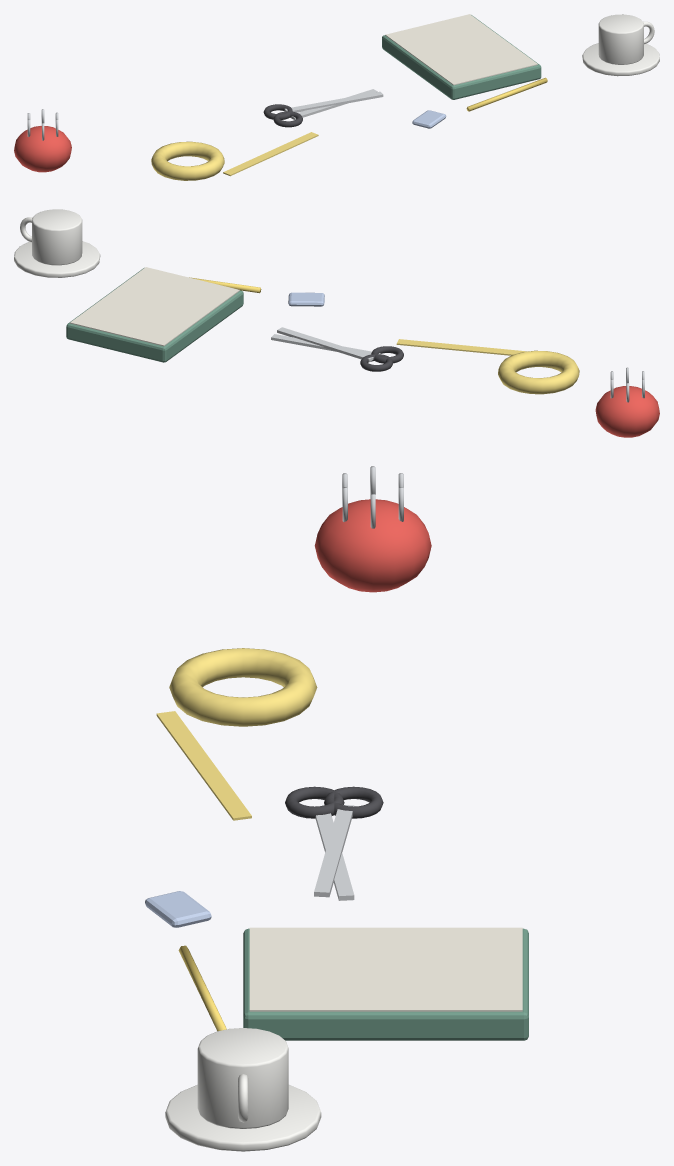
File: v2_counter_clutter.fbx
3 views of the same model, one above another, from view 1: azimuth 30°, elevation 25°; view 2: azimuth 150°, elevation 25°; view 3: azimuth 270°, elevation 25° (orthographic). The views are drawn at different scales.
Parts seen in each view (by area): view 1: ReceiptPage, ReceiptBook, Cup, TapeCoil, PinCushion, Saucer, TapeEnd.001, ScissorBladeB.001, Pencil, Chalk, ScissorRingA, ScissorBladeA.001 (+1 smaller); view 2: ReceiptPage, ReceiptBook, Cup, TapeCoil, PinCushion, Saucer, TapeEnd.001, ScissorBladeB.001, Chalk, ScissorBladeA.001, ScissorRingB, ScissorRingA; view 3: ReceiptPage, ReceiptBook, PinCushion, TapeCoil, Cup, Saucer, TapeEnd.001, Chalk, ScissorBladeB.001, ScissorRingB, ScissorRingA, ScissorBladeA.001.
Boxes of the visible parts, x1,y1,x2,y2 form: ReceiptPage: (385,14,537,85); ReceiptBook: (382,15,541,99); Cup: (598,14,643,64); TapeCoil: (151,141,224,180); PinCushion: (14,126,71,172); Saucer: (582,43,659,76); TapeEnd.001: (223,132,318,176); ScissorBladeB.001: (284,91,383,112); Pencil: (466,77,547,111); Chalk: (412,110,446,128); ScissorRingA: (263,104,292,119); ScissorBladeA.001: (290,89,377,119); ReceiptPage: (70,267,239,346); ReceiptBook: (66,267,243,362); Cup: (32,209,82,265); TapeCoil: (498,350,579,394); PinCushion: (595,386,659,437); Saucer: (14,241,100,277); TapeEnd.001: (396,339,527,355); ScissorBladeB.001: (277,327,373,361); Chalk: (288,292,324,306); ScissorBladeA.001: (271,334,380,354); ScissorRingB: (371,346,403,363); ScissorRingA: (360,354,393,371); ReceiptPage: (249,927,522,1011); ReceiptBook: (243,928,528,1040); PinCushion: (314,499,431,592); TapeCoil: (169,648,317,726); Cup: (197,1028,288,1128); Saucer: (165,1085,321,1151); TapeEnd.001: (156,711,251,820); Chalk: (145,891,211,927); ScissorBladeB.001: (314,805,354,897); ScissorRingB: (285,786,344,818); ScissorRingA: (324,786,383,818); ScissorBladeA.001: (315,813,354,900).
Size of the model in its own units: 1.07 by 0.094 by 0.2958.
